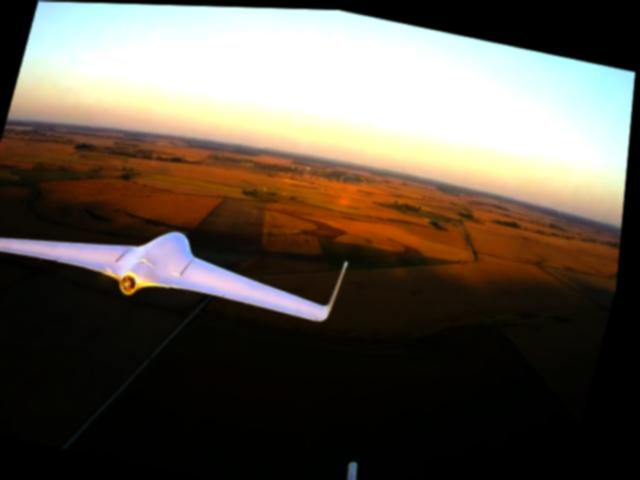plane: (0, 186, 359, 332)
